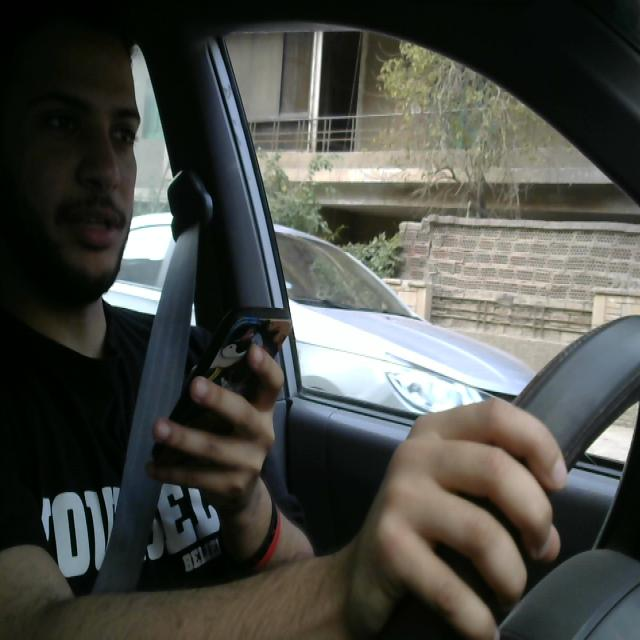mobile use: (147, 306, 294, 475)
